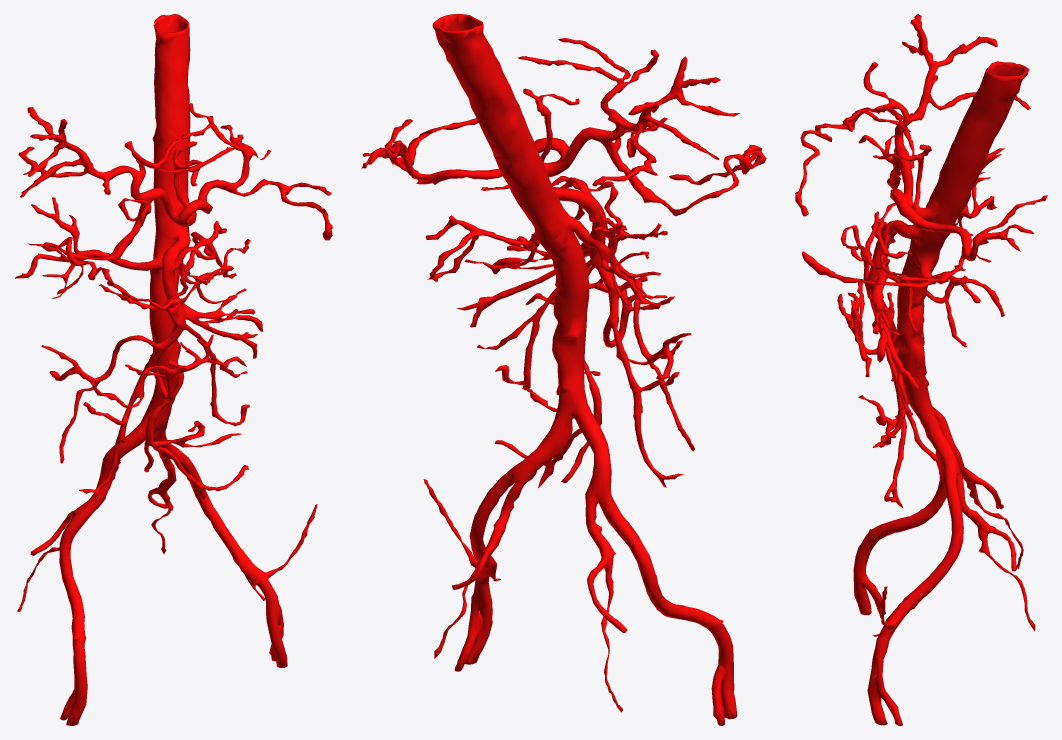
The picture shows the model from 3 angles, left to right: view 1: azimuth 30°, elevation 25°; view 2: azimuth 150°, elevation 25°; view 3: azimuth 270°, elevation 25°; orthographic projection. The views are drawn at different scales.
Parts seen in each view (by area): view 1: Polygonal_Model_11_Triangles_0; view 2: Polygonal_Model_11_Triangles_0; view 3: Polygonal_Model_11_Triangles_0.
Part boxes in pixels (x1,y1,x2,y2): Polygonal_Model_11_Triangles_0: (15, 14, 332, 725); Polygonal_Model_11_Triangles_0: (361, 14, 766, 725); Polygonal_Model_11_Triangles_0: (795, 14, 1047, 725).
Size of the model in its own units: 8.26 by 16.17 by 5.88.
